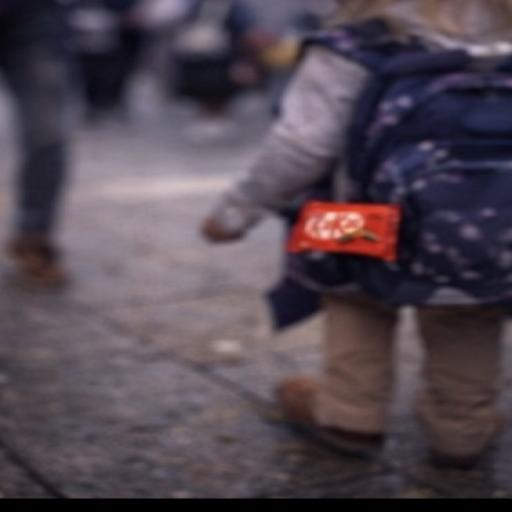kitkat: (260, 173, 452, 300)
